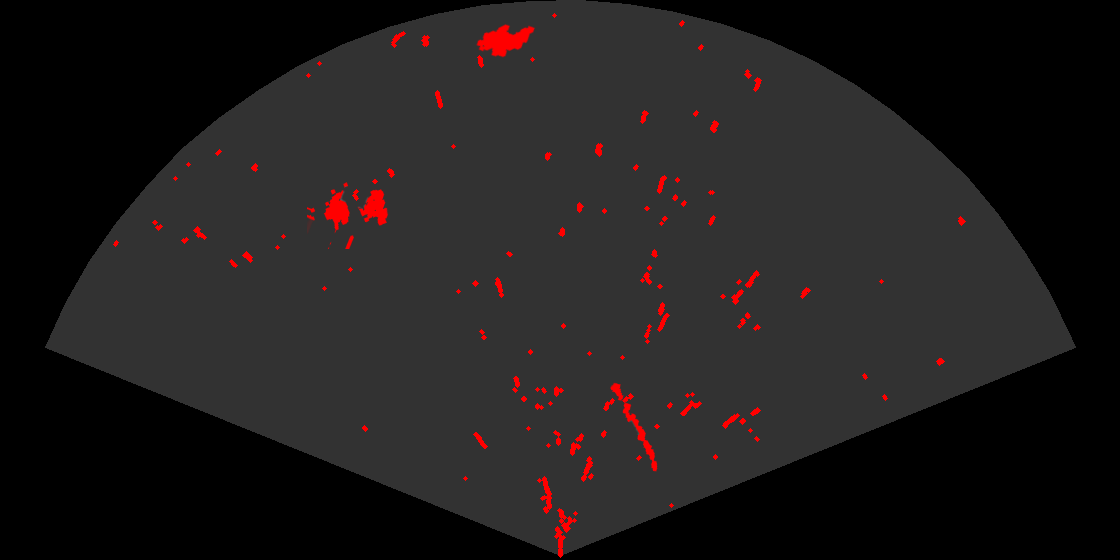AUV: (475, 23, 537, 59)
cage: (307, 181, 390, 249)
chain: (609, 381, 659, 473)
